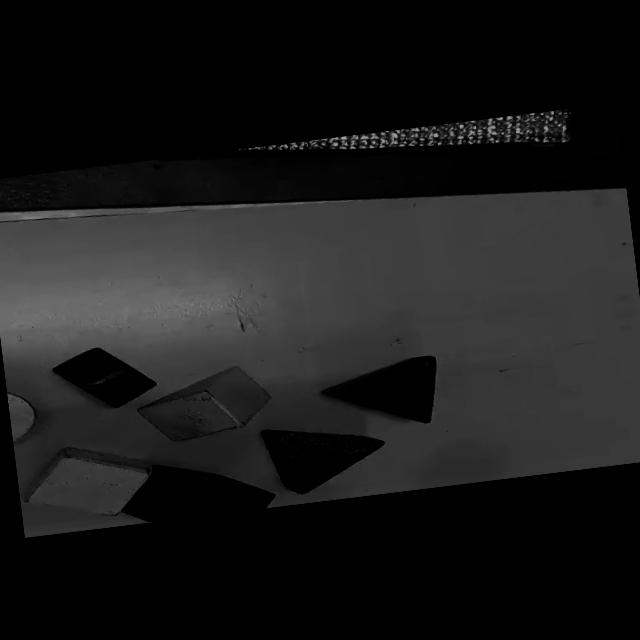btriangle: (323, 355, 437, 422)
rcircle: (53, 347, 156, 406)
rcube: (123, 465, 275, 521)
rtriangle: (262, 429, 384, 493)
ycube: (25, 446, 153, 514)
ytriangle: (138, 365, 271, 440)
